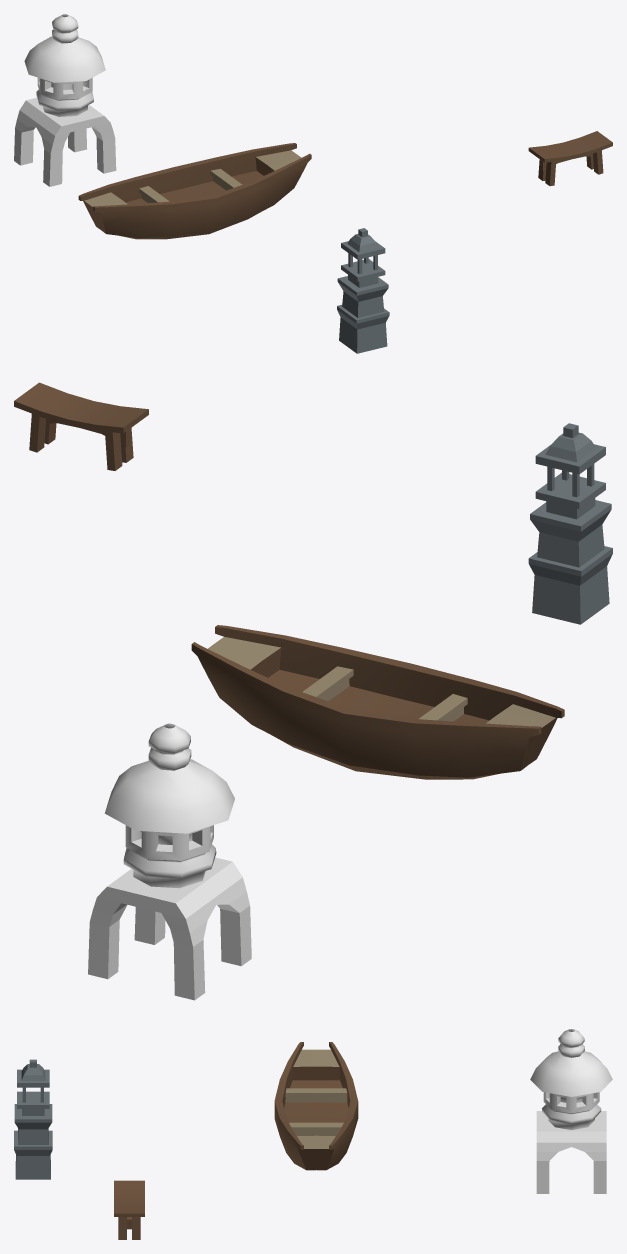
Rendered from Props.fbx.
3 views of the same model, one above another, from view 1: azimuth 30°, elevation 25°; view 2: azimuth 150°, elevation 25°; view 3: azimuth 270°, elevation 25° (orthographic). The views are drawn at different scales.
Parts seen in each view (by area): view 1: boat.002, Lantern, lamp, bench; view 2: boat.002, Lantern, lamp, bench; view 3: boat.002, Lantern, lamp, bench.
Part boxes in pixels (x1,y1,x2,y2): boat.002: [78, 143, 311, 239]; Lantern: [14, 14, 116, 186]; lamp: [337, 228, 389, 353]; bench: [528, 131, 612, 186]; boat.002: [191, 625, 564, 779]; Lantern: [88, 723, 251, 1000]; lamp: [528, 423, 612, 624]; bench: [14, 382, 148, 470]; boat.002: [274, 1042, 358, 1170]; Lantern: [530, 1029, 612, 1193]; lamp: [14, 1059, 52, 1179]; bench: [114, 1180, 144, 1239].
Bounding box in the file's own units: 618 × 210 × 773.
